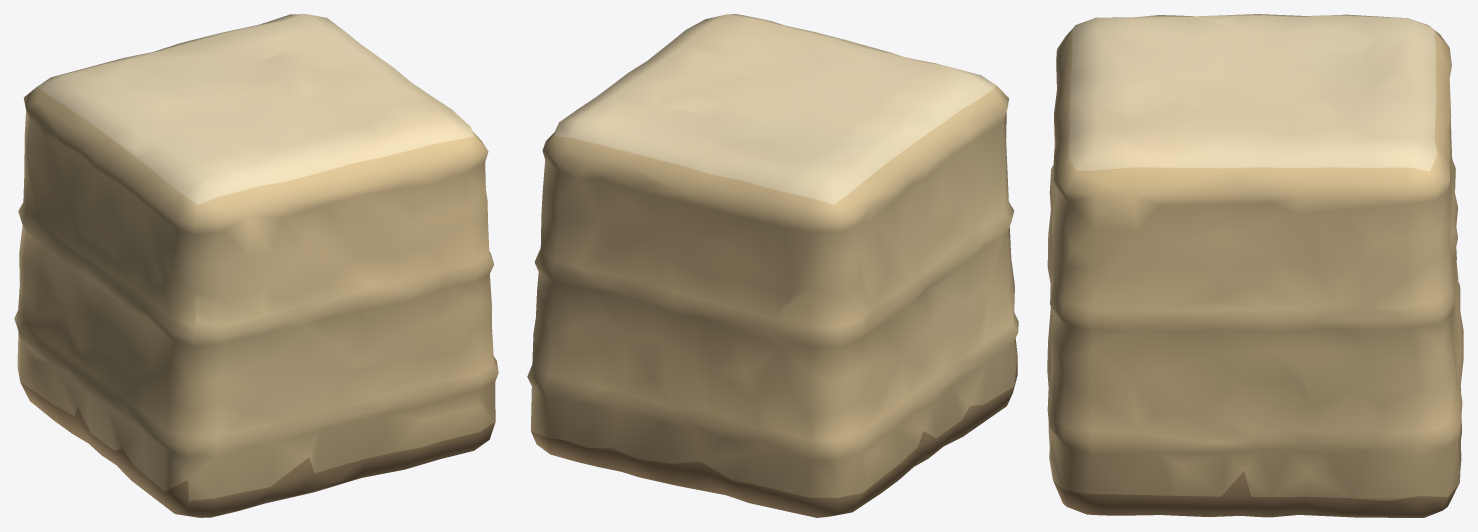
The model's file is shore_sand_brick_b.glb.
3 renders of one model, left to right at view 1: azimuth 30°, elevation 25°; view 2: azimuth 150°, elevation 25°; view 3: azimuth 270°, elevation 25°, orthographic. The views are drawn at different scales.
Parts seen in each view (by area): view 1: shore_sand_brick_b; view 2: shore_sand_brick_b; view 3: shore_sand_brick_b.
Boxes of the visible parts, x1,y1,x2,y2 form: shore_sand_brick_b: (14, 14, 498, 517); shore_sand_brick_b: (527, 14, 1018, 517); shore_sand_brick_b: (1047, 14, 1463, 517).
Bounding box in the file's own units: 4.95 × 4.8 × 4.91.
